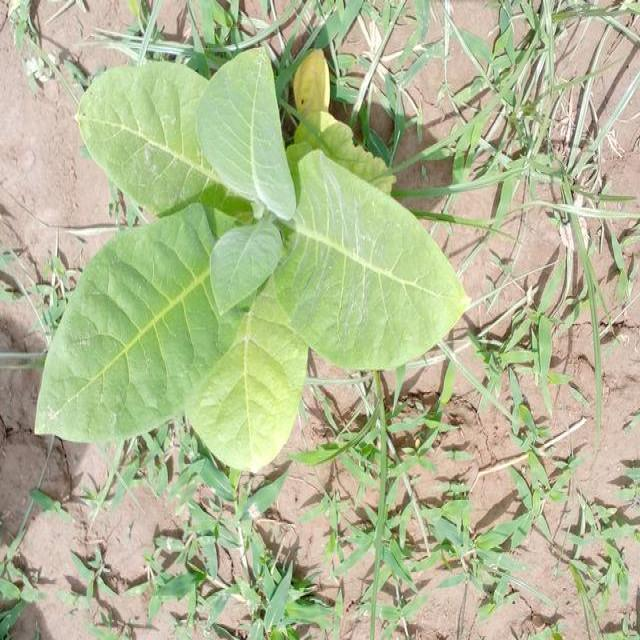crop: (69, 61, 460, 476)
